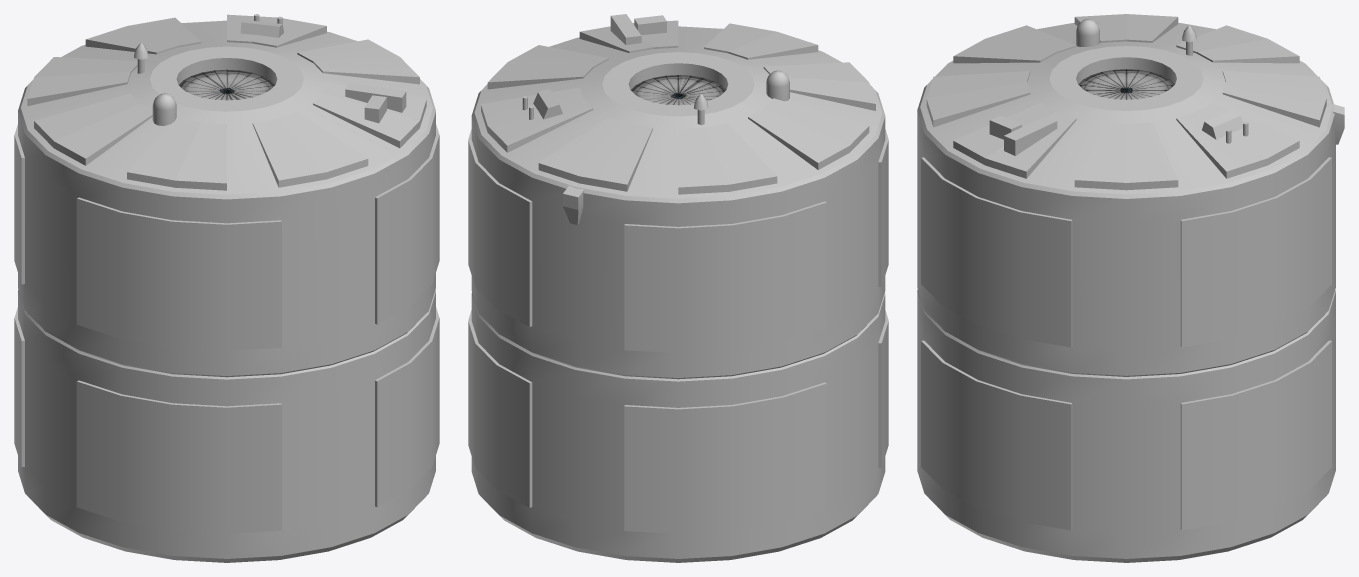
Rendered from Apollo_AARDV_CargoModule.dae.
3 renders of one model, left to right at view 1: azimuth 30°, elevation 25°; view 2: azimuth 150°, elevation 25°; view 3: azimuth 270°, elevation 25°, orthographic.
Visible parts, largest first — view 1: polySurface82, pCylinder47, pCylinder46, pCylinder46_ncl1_2, pCylinder47_ncl1_2, pCylinder46_ncl1_1, pCylinder47_ncl1_1, pCylinder46_ncl1_3, polySurface74, pCylinder47_ncl1_3, pCube10, pSphere4 (+1 smaller); view 2: polySurface82, pCylinder47_ncl1_2, pCylinder46_ncl1_3, pCylinder46_ncl1_2, pCylinder47_ncl1_3, pCylinder47, pCylinder46_ncl1_1, pCylinder46, polySurface74, pCylinder47_ncl1_1, pCube10, Spotlight (+3 smaller); view 3: polySurface82, pCylinder46_ncl1_1, pCylinder47_ncl1_3, pCylinder46, pCylinder46_ncl1_3, pCylinder47_ncl1_1, pCylinder47, pCylinder47_ncl1_2, polySurface74, pCylinder46_ncl1_2, pCube10, pCube9 (+1 smaller).
Boxes of the visible parts, box(x1,y1,x2,y2) form: polySurface82: box(14, 20, 439, 562); pCylinder47: box(127, 119, 226, 190); pCylinder46: box(252, 112, 368, 187); pCylinder46_ncl1_2: box(34, 93, 152, 165); pCylinder47_ncl1_2: box(27, 57, 137, 106); pCylinder46_ncl1_1: box(297, 39, 419, 84); pCylinder47_ncl1_1: box(313, 82, 426, 148); pCylinder46_ncl1_3: box(85, 17, 201, 54); polySurface74: box(179, 69, 274, 100); pCylinder47_ncl1_3: box(227, 14, 326, 47); pCube10: box(345, 82, 406, 112); pSphere4: box(152, 93, 176, 125); polySurface82: box(468, 26, 888, 562); pCylinder47_ncl1_2: box(678, 123, 777, 194); pCylinder46_ncl1_3: box(538, 117, 652, 191); pCylinder46_ncl1_2: box(748, 98, 869, 169); pCylinder47_ncl1_3: box(481, 87, 593, 152); pCylinder47: box(763, 62, 875, 110); pCylinder46_ncl1_1: box(487, 45, 608, 89); pCylinder46: box(704, 23, 818, 59); polySurface74: box(631, 75, 725, 105); pCylinder47_ncl1_1: box(579, 20, 678, 53); pCube10: box(610, 14, 641, 44); Spotlight: box(563, 185, 584, 224); polySurface82: box(917, 22, 1335, 562); pCylinder46_ncl1_1: box(1074, 122, 1178, 190); pCylinder47_ncl1_3: box(1176, 103, 1299, 178); pCylinder46: box(926, 71, 1030, 127); pCylinder46_ncl1_3: box(1222, 71, 1326, 127); pCylinder47_ncl1_1: box(953, 103, 1076, 178); pCylinder47: box(953, 25, 1076, 63); pCylinder47_ncl1_2: box(1176, 25, 1299, 63); polySurface74: box(1078, 69, 1174, 99); pCylinder46_ncl1_2: box(1074, 14, 1178, 42); pCube10: box(1004, 116, 1057, 155); pCube9: box(1202, 110, 1242, 139).
Size of what is drawn, in the model's own units: 2.57 by 2.88 by 2.62.
